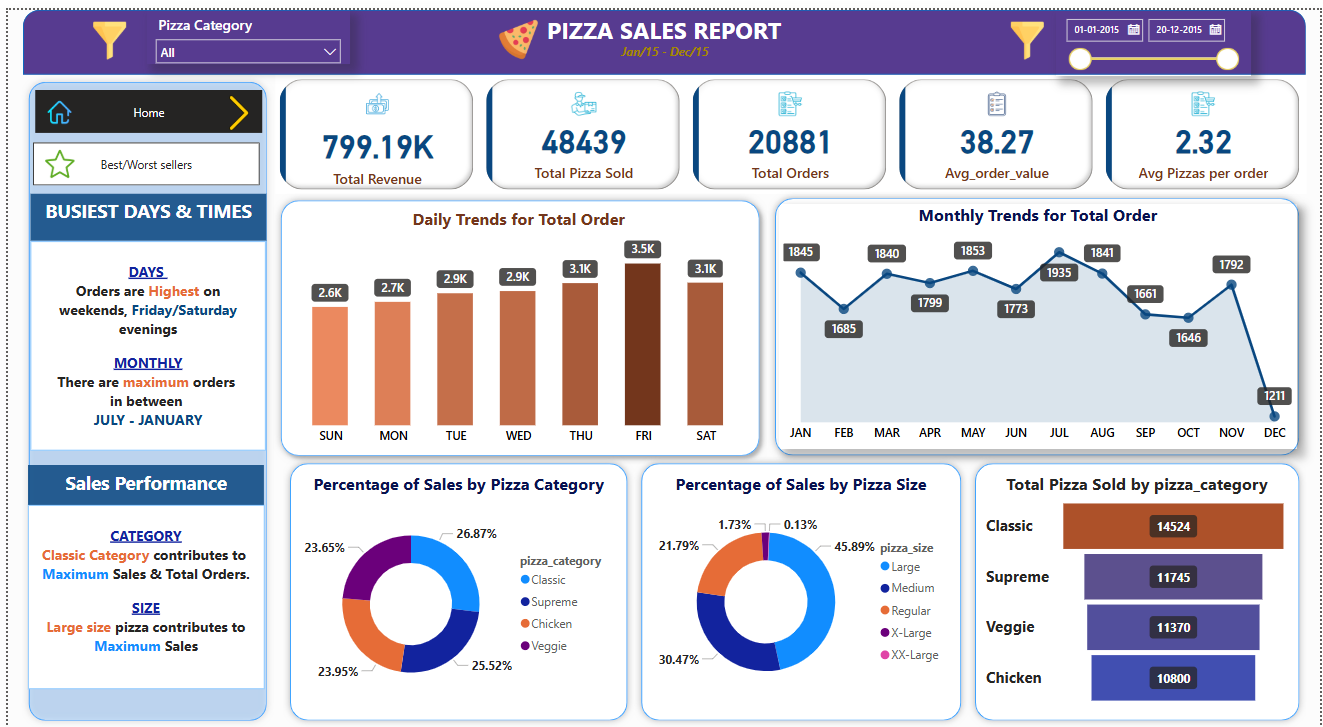

What the dashboard file says about the page in this screenshot:
{"tool":"powerbi","page":{"name":"Home","canvas":[1500,820],"ordinal":0},"visuals":[{"type":"shape","box":[15,74,288,746],"z":0},{"type":"cardVisual","fields":{"Data":["pizza_sales.Total Revenue","pizza_sales.Total Pizza Sold","pizza_sales.Total Orders","pizza_sales.Avg_order_value","pizza_sales.Avg Pizzas per order"]},"box":[306,74,1178,136],"z":1000},{"type":"shape","box":[17,0,1466,74],"z":2000},{"type":"textbox","box":[594.3,0,311.4,55.7],"z":3000},{"type":"textbox","box":[671.7,32.5,158.3,33.3],"z":4000},{"type":"image","box":[551,5,64,56],"z":5000},{"type":"shape","box":[303.3,208.3,565,310],"z":6000},{"type":"columnChart","title":"Daily Trends for Total Order","fields":{"Category":["pizza_sales.Order Day"],"Y":["pizza_sales.Total Orders"]},"box":[314.4,225.6,538.9,281.1],"z":7000},{"type":"shape","box":[868.8,207.5,615,310],"z":8000},{"type":"areaChart","title":"Monthly Trends for Total Order","fields":{"Category":["pizza_sales.Order Month"],"Y":["pizza_sales.Total Orders"]},"box":[882,222,591,281],"z":9000},{"type":"group","id":"g1","title":"Group 1","box":[25,210,268.3,291.7],"z":10000},{"type":"shape","box":[314,510,401.7,310],"z":10000,"group":"g3"},{"type":"shape","box":[715.7,510,381.7,310],"z":11000,"group":"g3"},{"type":"group","id":"g2","title":"Group 1","box":[23,520,270.2,255.6],"z":11000},{"type":"slicer","fields":{"Values":["pizza_sales.pizza_category"]},"box":[158.3,0,231.7,61.7],"z":12000},{"type":"shape","box":[1097.3,510,386.7,310],"z":12000,"group":"g3"},{"type":"slicer","fields":{"Values":["pizza_sales.order_date"]},"box":[1196.7,0,223.3,75],"z":13000},{"type":"donutChart","title":"Percentage of Sales by Pizza Category","fields":{"Category":["pizza_sales.pizza_category"],"Y":["pizza_sales.Total Revenue"]},"box":[330.7,528.8,367.5,276.2],"z":13000,"group":"g3"},{"type":"group","id":"g3","title":"Group 2","box":[314,510,1170,310],"z":14000},{"type":"donutChart","title":"Percentage of Sales by Pizza Size","fields":{"Y":["pizza_sales.Total Revenue"],"Category":["pizza_sales.pizza_size"]},"box":[730.7,528.8,350,271.2],"z":14000,"group":"g3"},{"type":"pageNavigator","box":[30.9,91.8,259.1,50],"z":15000},{"type":"funnel","fields":{"Category":["pizza_sales.pizza_category"],"Y":["pizza_sales.Total Pizza Sold"]},"box":[1112.3,528.3,355,271.7],"z":15000,"group":"g3"},{"type":"pageNavigator","box":[29.1,150.9,259.1,50],"z":16000},{"type":"image","box":[232.9,92.9,62.9,50],"z":17000},{"type":"textbox","box":[25,210,269.5,53.8],"z":17500,"group":"g1"},{"type":"textbox","box":[23.4,520,269.8,47.6],"z":17500,"group":"g2"},{"type":"image","box":[35.7,98.6,46.4,37.1],"z":18000},{"type":"textbox","box":[25.6,263.8,269,238.9],"z":18000,"group":"g1"},{"type":"textbox","box":[23,565.6,270,210],"z":18000,"group":"g2"},{"type":"image","box":[32.9,153.6,52.1,43.6],"z":19000},{"type":"image","box":[1133.3,8.3,63.3,53.3],"z":20000},{"type":"image","box":[85,8.3,63.3,53.3],"z":21000}]}

Visuals, with their boxes in screenshot pixels (x1, y1, x2, y2), scaled from the page's 1500x820 canvas onto the 1323x727 screenshot:
shape: pyautogui.locateOnScreen(13, 66, 267, 726)
cardVisual - pizza_sales.Total Revenue x pizza_sales.Total Pizza Sold: pyautogui.locateOnScreen(270, 66, 1309, 186)
shape: pyautogui.locateOnScreen(15, 0, 1308, 66)
textbox: pyautogui.locateOnScreen(524, 0, 799, 49)
textbox: pyautogui.locateOnScreen(592, 29, 732, 58)
image: pyautogui.locateOnScreen(486, 4, 542, 54)
shape: pyautogui.locateOnScreen(268, 185, 766, 460)
"Daily Trends for Total Order" columnChart: pyautogui.locateOnScreen(277, 200, 753, 449)
shape: pyautogui.locateOnScreen(766, 184, 1309, 459)
"Monthly Trends for Total Order" areaChart: pyautogui.locateOnScreen(778, 197, 1299, 446)
"Group 1" group: pyautogui.locateOnScreen(22, 186, 259, 445)
shape: pyautogui.locateOnScreen(277, 452, 631, 726)
shape: pyautogui.locateOnScreen(631, 452, 968, 726)
"Group 1" group: pyautogui.locateOnScreen(20, 461, 259, 688)
slicer - pizza_sales.pizza_category: pyautogui.locateOnScreen(140, 0, 344, 55)
shape: pyautogui.locateOnScreen(968, 452, 1309, 726)
slicer - pizza_sales.order_date: pyautogui.locateOnScreen(1055, 0, 1252, 66)
"Percentage of Sales by Pizza Category" donutChart: pyautogui.locateOnScreen(292, 469, 616, 714)
"Group 2" group: pyautogui.locateOnScreen(277, 452, 1309, 726)
"Percentage of Sales by Pizza Size" donutChart: pyautogui.locateOnScreen(644, 469, 953, 709)
pageNavigator: pyautogui.locateOnScreen(27, 81, 256, 126)
funnel - pizza_sales.pizza_category x pizza_sales.Total Pizza Sold: pyautogui.locateOnScreen(981, 468, 1294, 709)
pageNavigator: pyautogui.locateOnScreen(26, 134, 254, 178)
image: pyautogui.locateOnScreen(205, 82, 261, 127)
textbox: pyautogui.locateOnScreen(22, 186, 260, 234)
textbox: pyautogui.locateOnScreen(21, 461, 259, 503)
image: pyautogui.locateOnScreen(31, 87, 72, 120)
textbox: pyautogui.locateOnScreen(23, 234, 260, 446)
textbox: pyautogui.locateOnScreen(20, 501, 258, 688)
image: pyautogui.locateOnScreen(29, 136, 75, 175)
image: pyautogui.locateOnScreen(1000, 7, 1055, 55)
image: pyautogui.locateOnScreen(75, 7, 131, 55)
